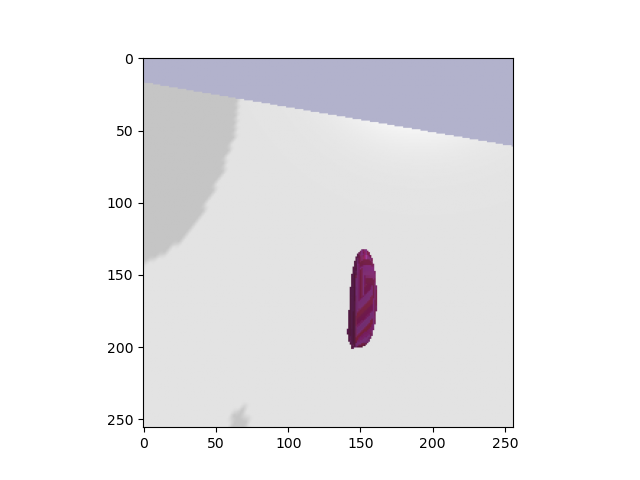v249b387_105: (343, 248, 384, 351)
